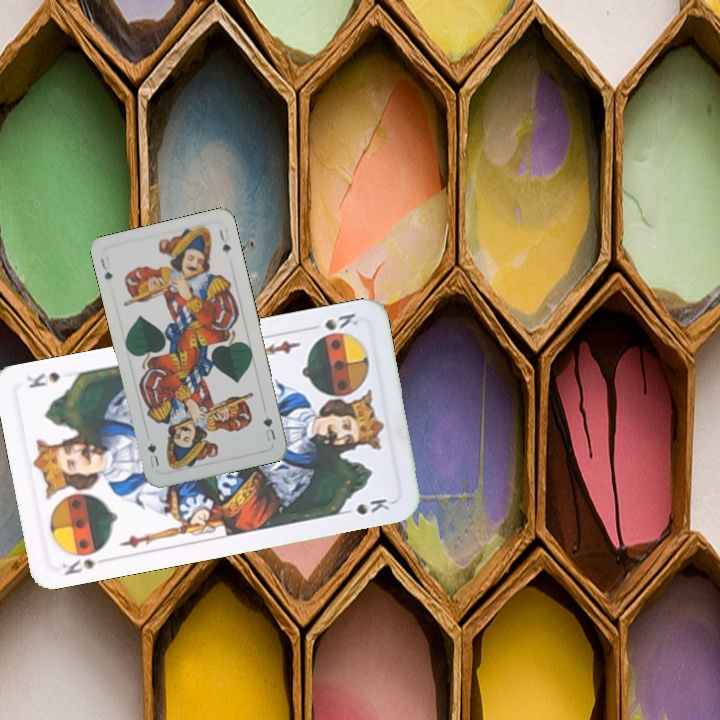GU: (259, 412, 278, 444), (96, 252, 115, 282)
SK: (57, 544, 107, 578), (320, 309, 361, 333)
